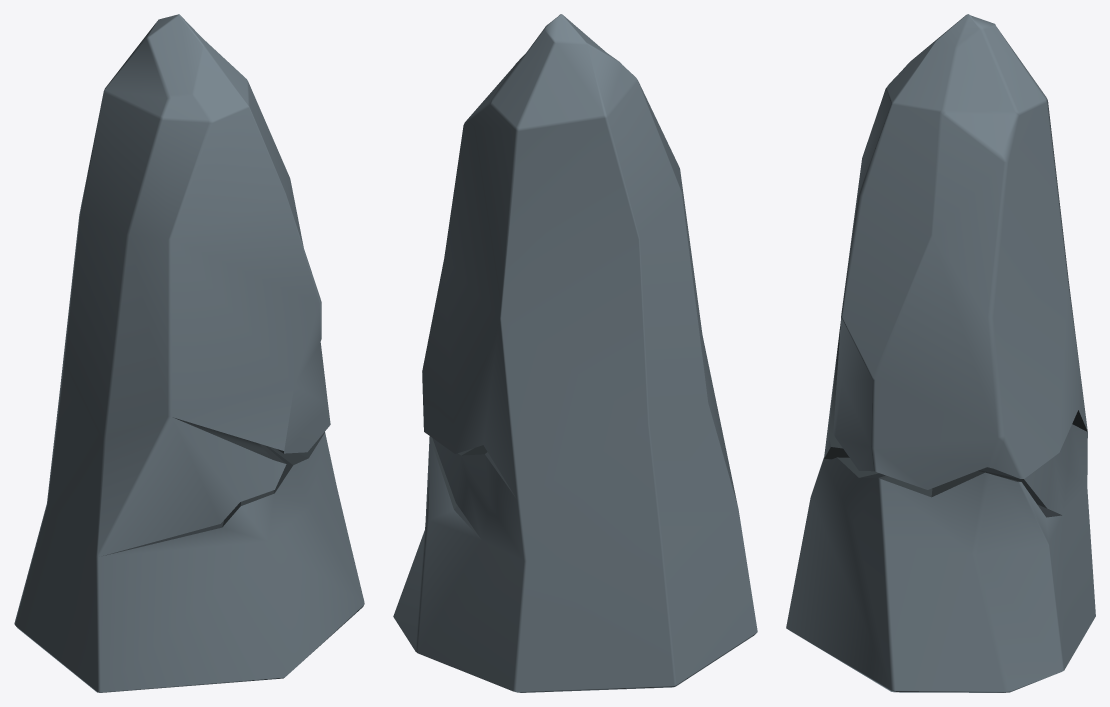
Rendered from PT_Menhir_Rock_02.fbx.
3 views of the same model, side by side, from view 1: azimuth 30°, elevation 25°; view 2: azimuth 150°, elevation 25°; view 3: azimuth 270°, elevation 25° (orthographic). The views are drawn at different scales.
Parts seen in each view (by area): view 1: PT_Menhir_Rock_02_LOD0; view 2: PT_Menhir_Rock_02_LOD0; view 3: PT_Menhir_Rock_02_LOD0.
Part boxes in pixels (x1,y1,x2,y2): PT_Menhir_Rock_02_LOD0: (14,14,364,692); PT_Menhir_Rock_02_LOD0: (393,14,757,692); PT_Menhir_Rock_02_LOD0: (786,14,1095,692).
Size of what is drawn, in the model's own units: 136 by 280 by 126.
1 material, 1 textured.
